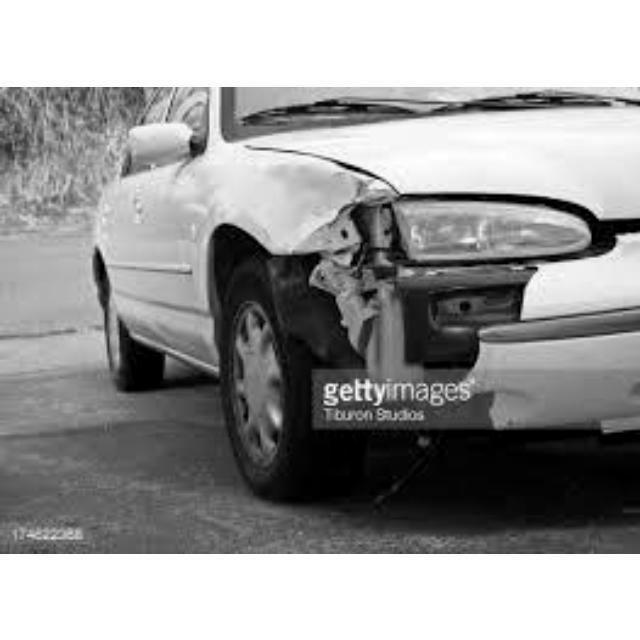fender-dent: (205, 145, 402, 320)
front-bumper-dent: (334, 303, 560, 444)
